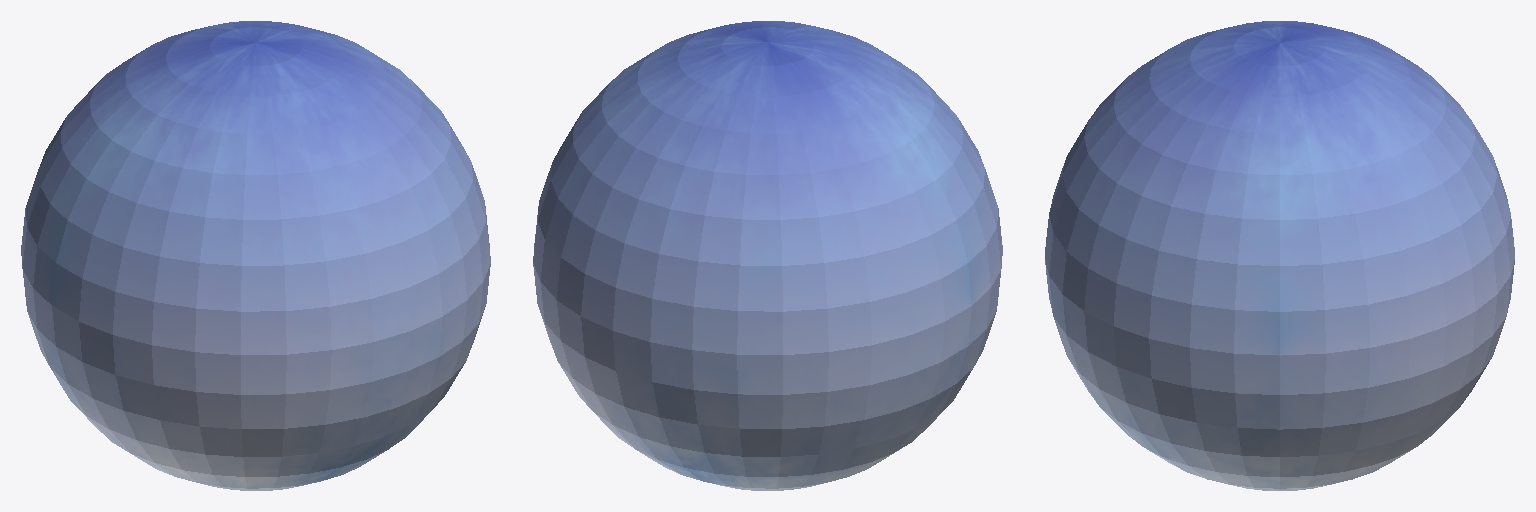
3 views of the same model, side by side, from view 1: azimuth 30°, elevation 25°; view 2: azimuth 150°, elevation 25°; view 3: azimuth 270°, elevation 25° (orthographic).
Parts seen in each view (by area): view 1: 球; view 2: 球; view 3: 球.
Part boxes in pixels (left/top/right/bottom): 球: left=21, top=21, right=490, bottom=490; 球: left=533, top=21, right=1002, bottom=490; 球: left=1045, top=21, right=1514, bottom=490.
Size of the model in its own units: 10 by 10 by 10.
Materials: 1 (1 with a texture image).